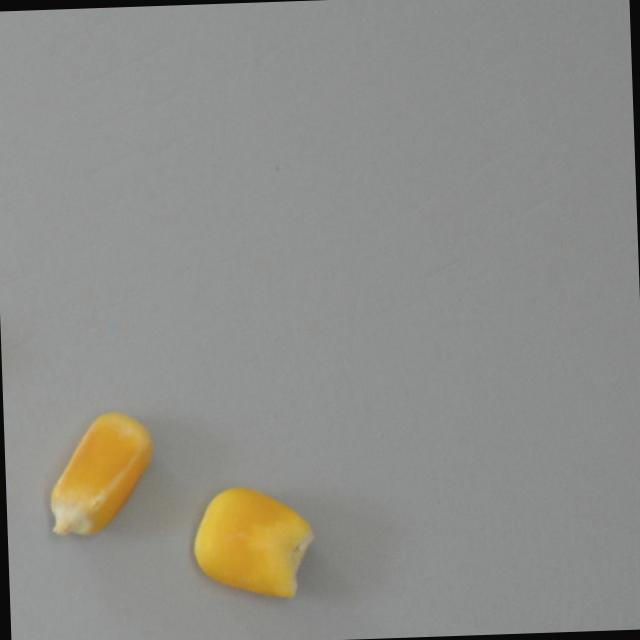entero: (28, 405, 161, 541)
no_desgerminado: (187, 481, 320, 607)
